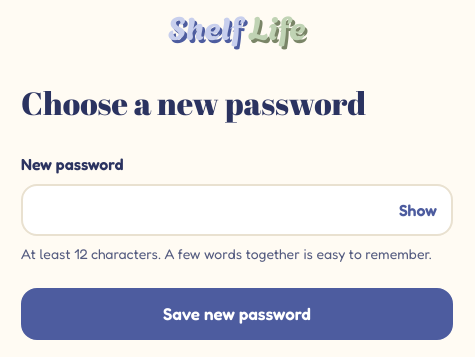
Test: Milestone 9b Forgot and reset password › Reset: saves the new password, then offers Sign in
Type "a brand new password" into the password field labelled "New password".
click(237, 210); type("a brand new password")  # box [21,184,453,236]
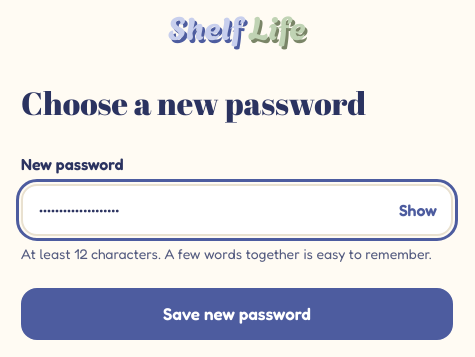
Click the button "Save new password".
click(237, 314)  # box [21,288,453,340]
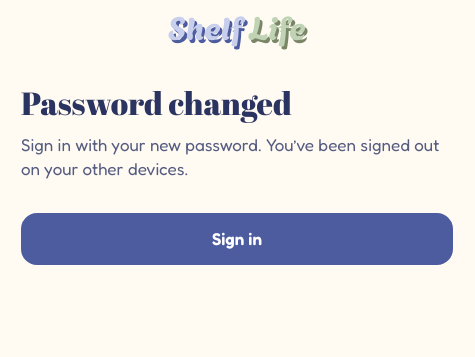
expect the heading "Password changed" is shown: met, box [21,81,292,124]
